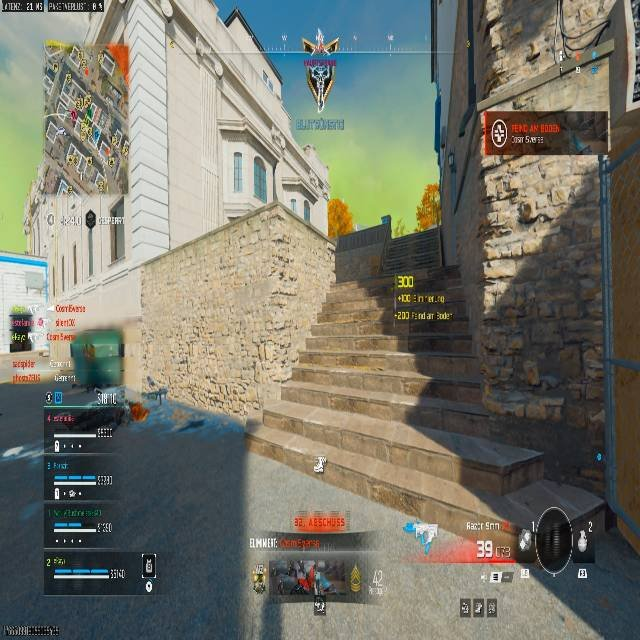player: (296, 558, 330, 617)
